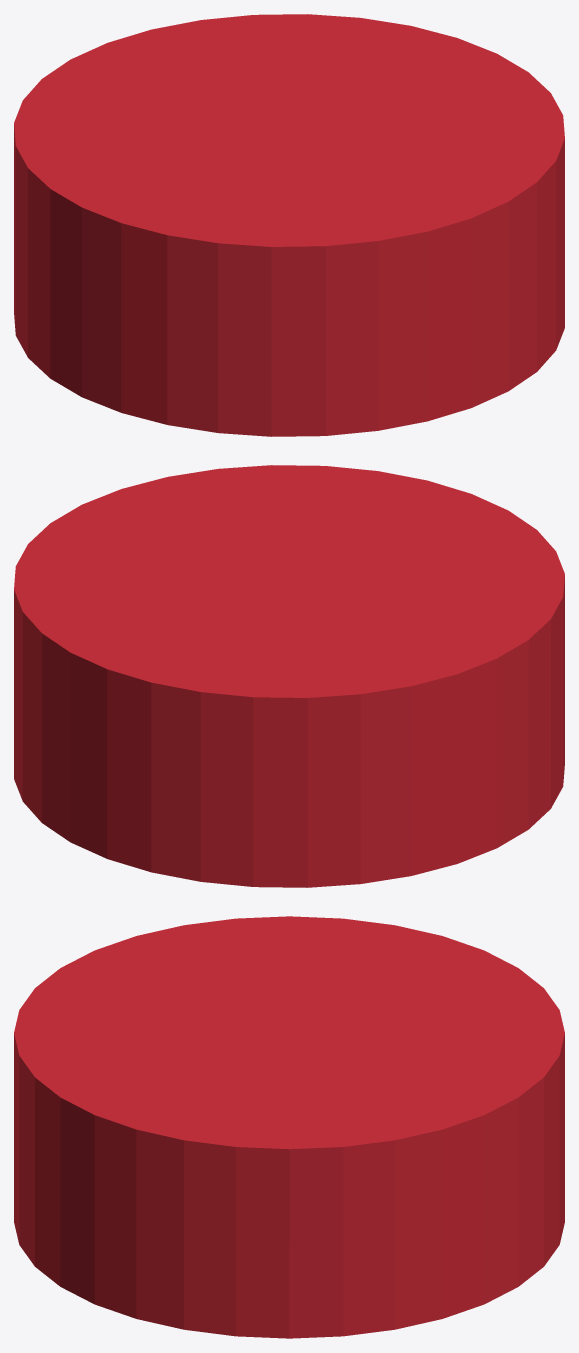
File: SauceCyclinerCollider.fbx
3 views of the same model, one above another, from view 1: azimuth 30°, elevation 25°; view 2: azimuth 150°, elevation 25°; view 3: azimuth 270°, elevation 25° (orthographic).
Visible parts, largest first — view 1: Cylinder.003; view 2: Cylinder.003; view 3: Cylinder.003.
Part boxes in pixels (x1=…): Cylinder.003: x1=14, y1=14, x2=564, y2=436; Cylinder.003: x1=14, y1=465, x2=564, y2=887; Cylinder.003: x1=14, y1=916, x2=564, y2=1338.
Bounding box in the file's own units: 116 × 44 × 116.
